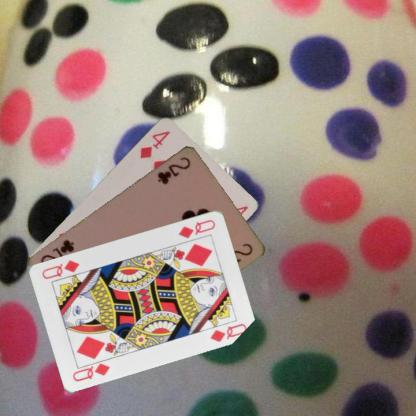2c: (155, 154, 193, 186)
4d: (137, 127, 172, 160)
Qd: (70, 355, 111, 382), (176, 216, 216, 239)
